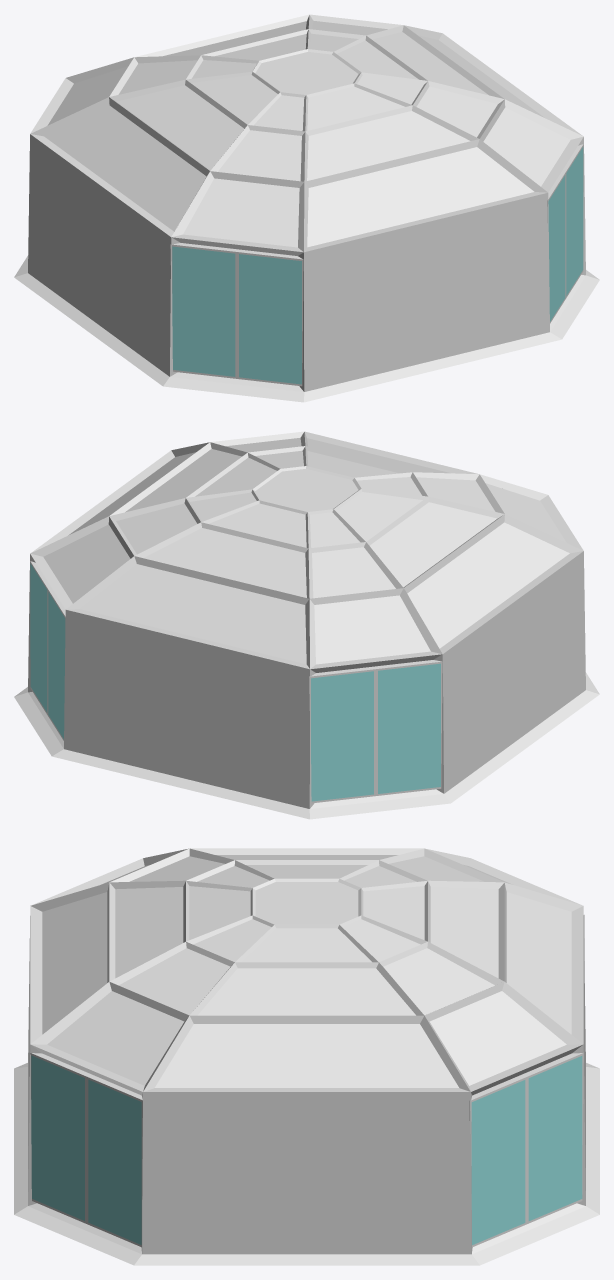
File: ConferenceCube.fbx
3 views of the same model, one above another, from view 1: azimuth 30°, elevation 25°; view 2: azimuth 150°, elevation 25°; view 3: azimuth 270°, elevation 25° (orthographic). The views are drawn at different scales.
Visible parts, largest first — view 1: ConferenceRoom, Glass, DoorLeft.001, DoorRight.001, DoorLeft, DoorRight; view 2: ConferenceRoom, Glass, DoorLeft.002, DoorRight.002, DoorRight.003, DoorLeft.003; view 3: ConferenceRoom, Glass, DoorLeft, DoorLeft.003, DoorRight.003, DoorRight.
Boxes of the visible parts, x1,y1,x2,y2 form: ConferenceRoom: [14, 14, 599, 402]; Glass: [44, 20, 570, 247]; DoorLeft.001: [237, 249, 303, 386]; DoorRight.001: [170, 243, 238, 378]; DoorLeft: [562, 144, 583, 298]; DoorRight: [547, 171, 565, 323]; ConferenceRoom: [14, 431, 599, 819]; Glass: [43, 437, 569, 664]; DoorLeft.002: [374, 660, 442, 795]; DoorRight.002: [308, 666, 375, 803]; DoorRight.003: [30, 561, 51, 715]; DoorLeft.003: [48, 588, 65, 740]; ConferenceRoom: [14, 848, 599, 1265]; Glass: [42, 855, 571, 1087]; DoorLeft: [86, 1074, 142, 1247]; DoorLeft.003: [522, 1053, 583, 1223]; DoorRight.003: [469, 1074, 526, 1247]; DoorRight: [29, 1052, 91, 1223].
Bounding box in the file's own units: 2505 × 1132 × 2505.
